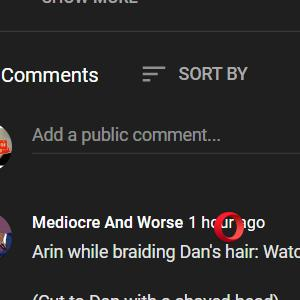opera: (214, 211, 244, 242)
